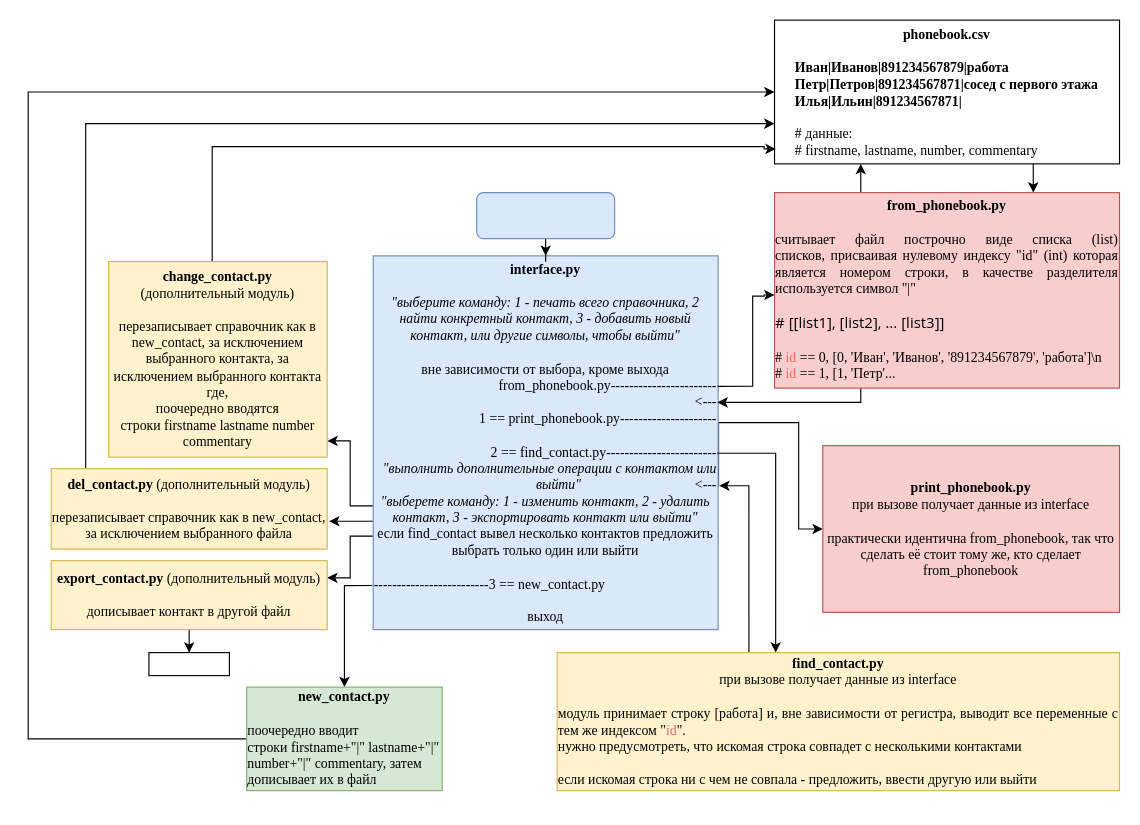
Image size: 1140x825. Some labels were removed from this diagram. The centre of each missing label's shape, as x and y in pixels:
"main.ру" belongs at point (545, 215).
"другой файл" belongs at point (188, 663).
